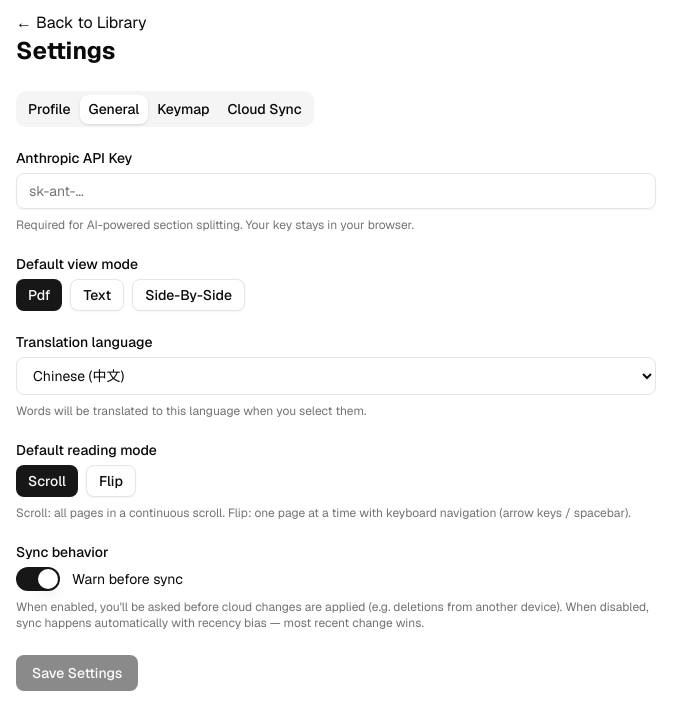
Settings unsaved-edit handling (KAN-331) › surfaces the dirty state on the Save button
This screenshot has width=673, height=708.
Expected: the tab "Profile" is shown, [19,94,80,124]
Expected: the button "Save Settings" is disabled, [16,655,138,691]
Select "Spanish (Español)" in the dropdown labelled "Translation language". click: (336, 376)
box: [16,357,656,395]
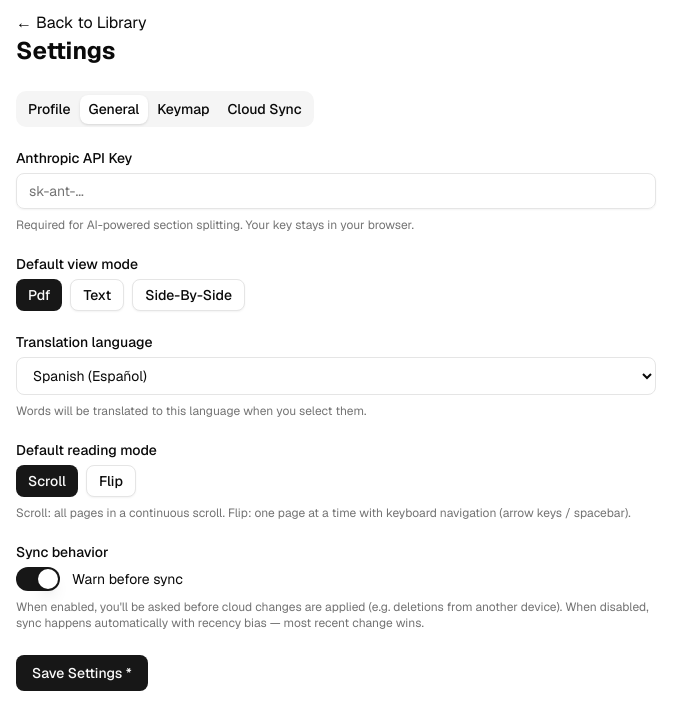
Now the button "Save Settings *" is enabled
Now the button "Save Settings *" is shown
Click the button "Save Settings *". click: (82, 673)
box: [16,655,148,691]
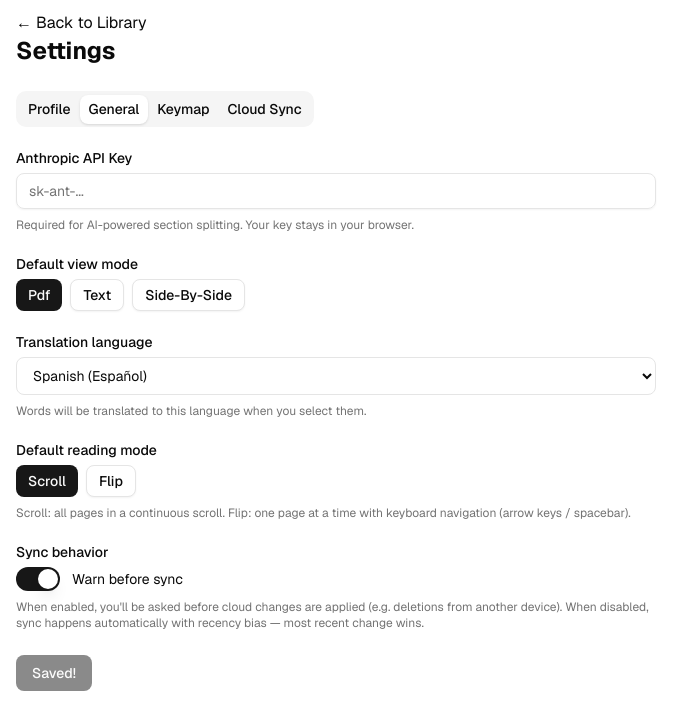
Now the button "Saved!" is disabled, box [16,655,92,691]
